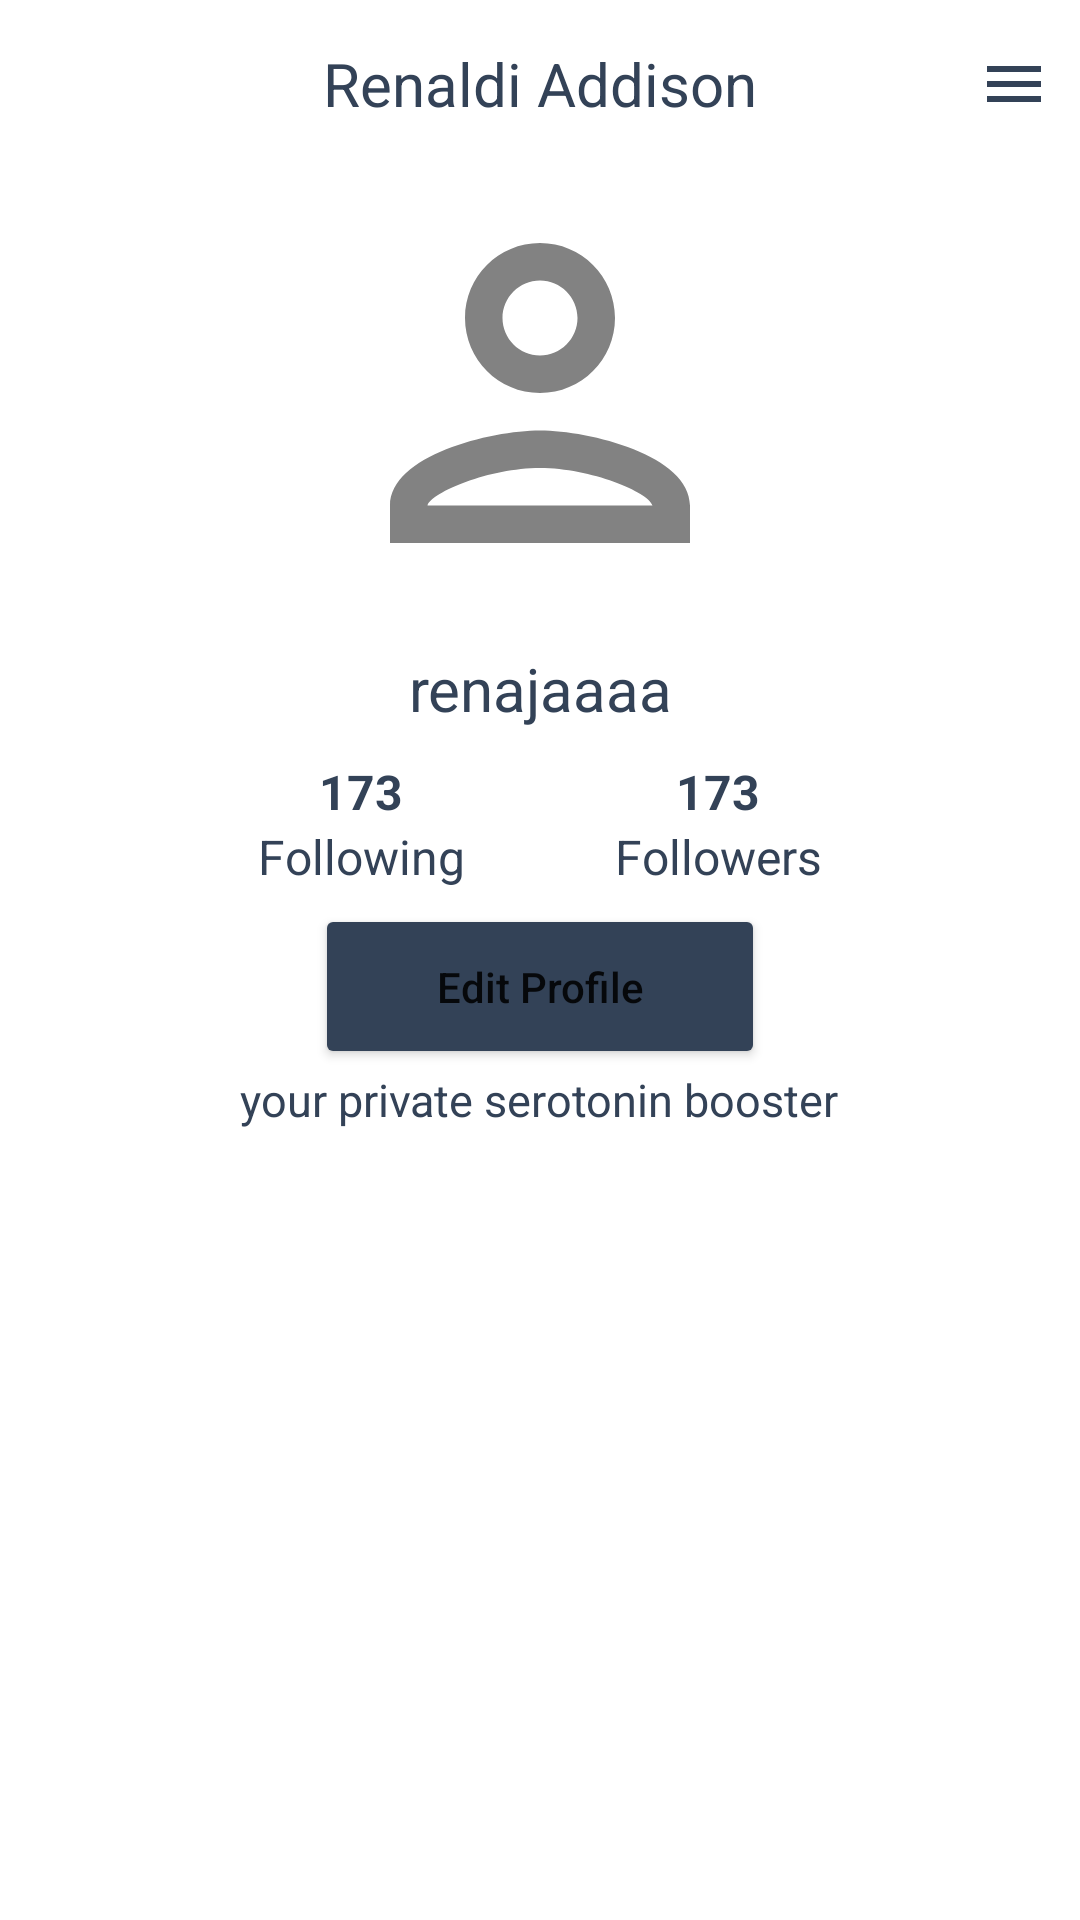

Icon bounding boxes for this 1080px x 1920px phone screenshot, format rect(x1, y1, x2, y2):
menu: rect(987, 66, 1041, 102)
person: rect(390, 243, 690, 543)
